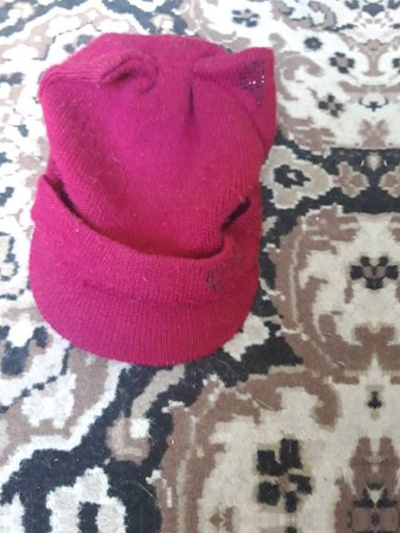Hat: (6, 0, 311, 392)
